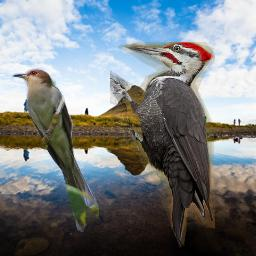Cuckoo: (12, 68, 99, 232)
Woodpecker: (110, 42, 215, 248)
